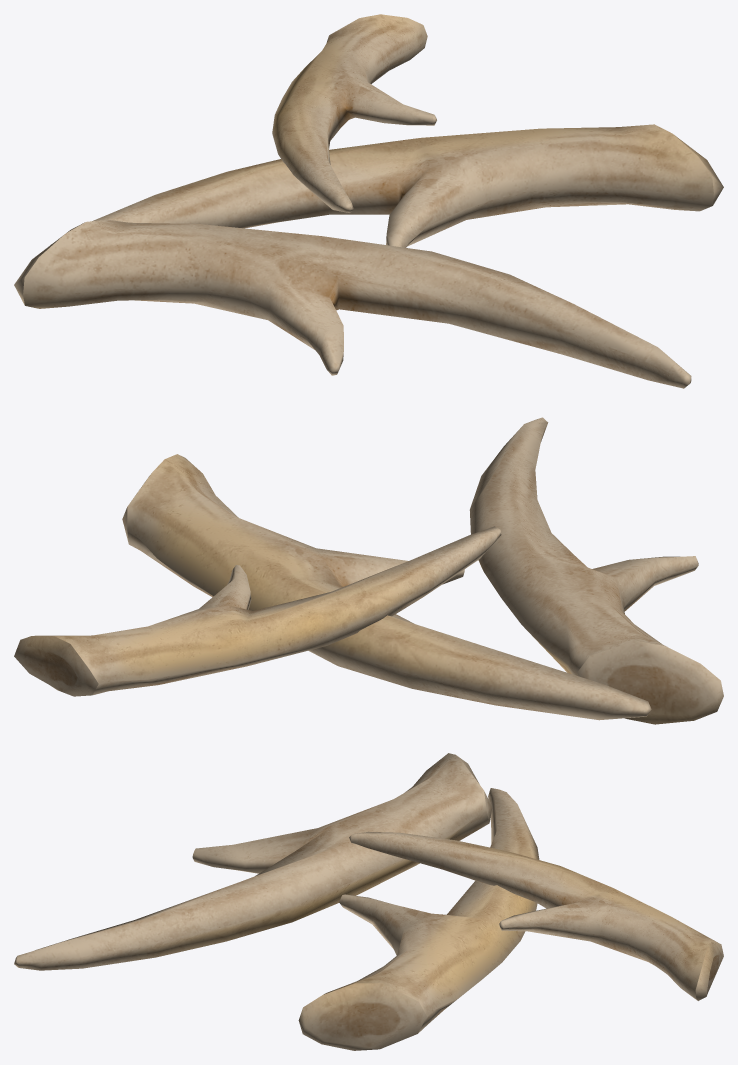
The model's file is SM_Potion_Props_Loot_Horn_01_B.fbx.
3 renders of one model, top to bottom at view 1: azimuth 30°, elevation 25°; view 2: azimuth 150°, elevation 25°; view 3: azimuth 270°, elevation 25°, orthographic. The views are drawn at different scales.
Parts seen in each view (by area): view 1: SM_Potion_Props_Loot_Horn_01_B_LOD0; view 2: SM_Potion_Props_Loot_Horn_01_B_LOD0; view 3: SM_Potion_Props_Loot_Horn_01_B_LOD0.
Part boxes in pixels (x1,y1,x2,y2): SM_Potion_Props_Loot_Horn_01_B_LOD0: [14, 14, 723, 388]; SM_Potion_Props_Loot_Horn_01_B_LOD0: [14, 417, 723, 724]; SM_Potion_Props_Loot_Horn_01_B_LOD0: [14, 753, 723, 1050].
Size of what is drawn, in the model's own units: 26.76 by 3.98 by 30.1.
